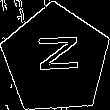N_W: (31, 38, 81, 81)
